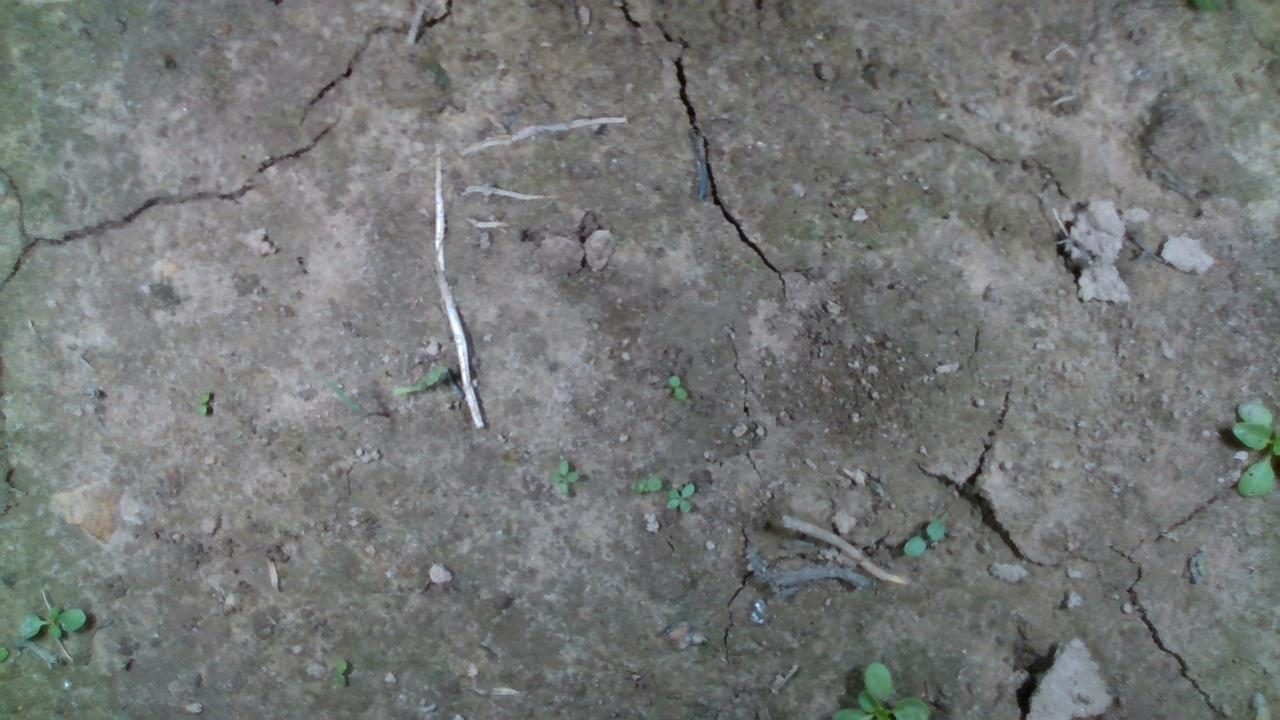weed: (16, 601, 87, 639), (901, 515, 946, 558), (545, 456, 579, 496), (664, 480, 695, 512), (666, 373, 687, 401), (631, 475, 663, 492), (333, 655, 347, 687), (195, 388, 209, 415)
